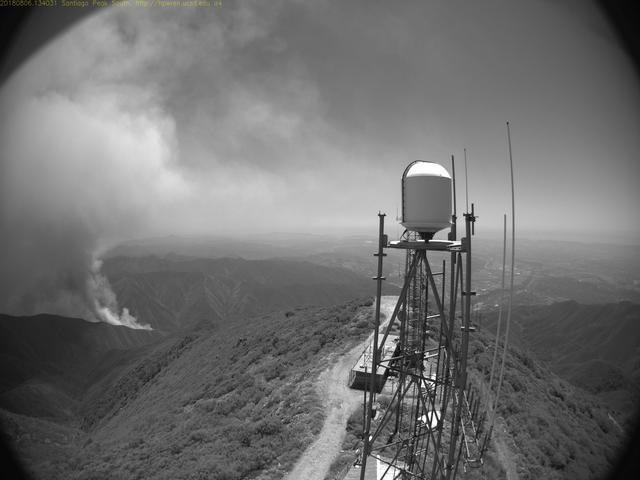Smoke: (0, 85, 161, 334)
